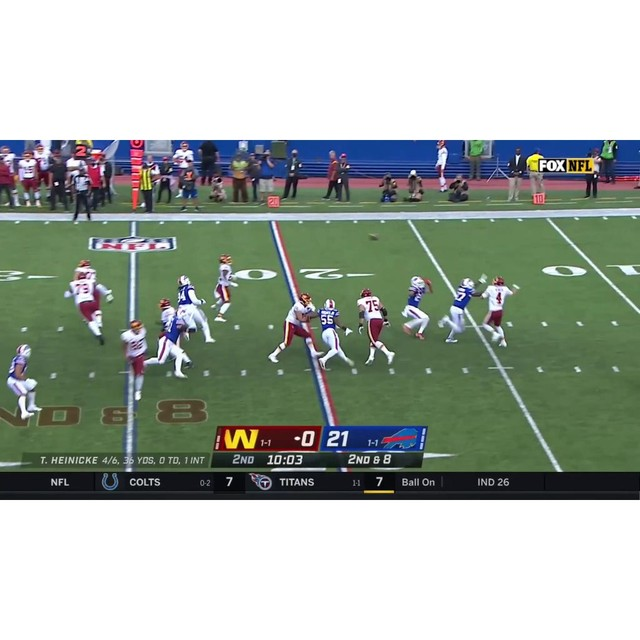american-football-player: (267, 292, 320, 364), (64, 268, 111, 346), (355, 287, 396, 368), (315, 298, 357, 373), (147, 310, 191, 378), (478, 276, 518, 348), (6, 344, 43, 421), (439, 277, 481, 343), (176, 277, 216, 343), (119, 319, 151, 401), (399, 277, 433, 341), (212, 254, 237, 322), (157, 296, 177, 331)
referee: (70, 165, 94, 225)
